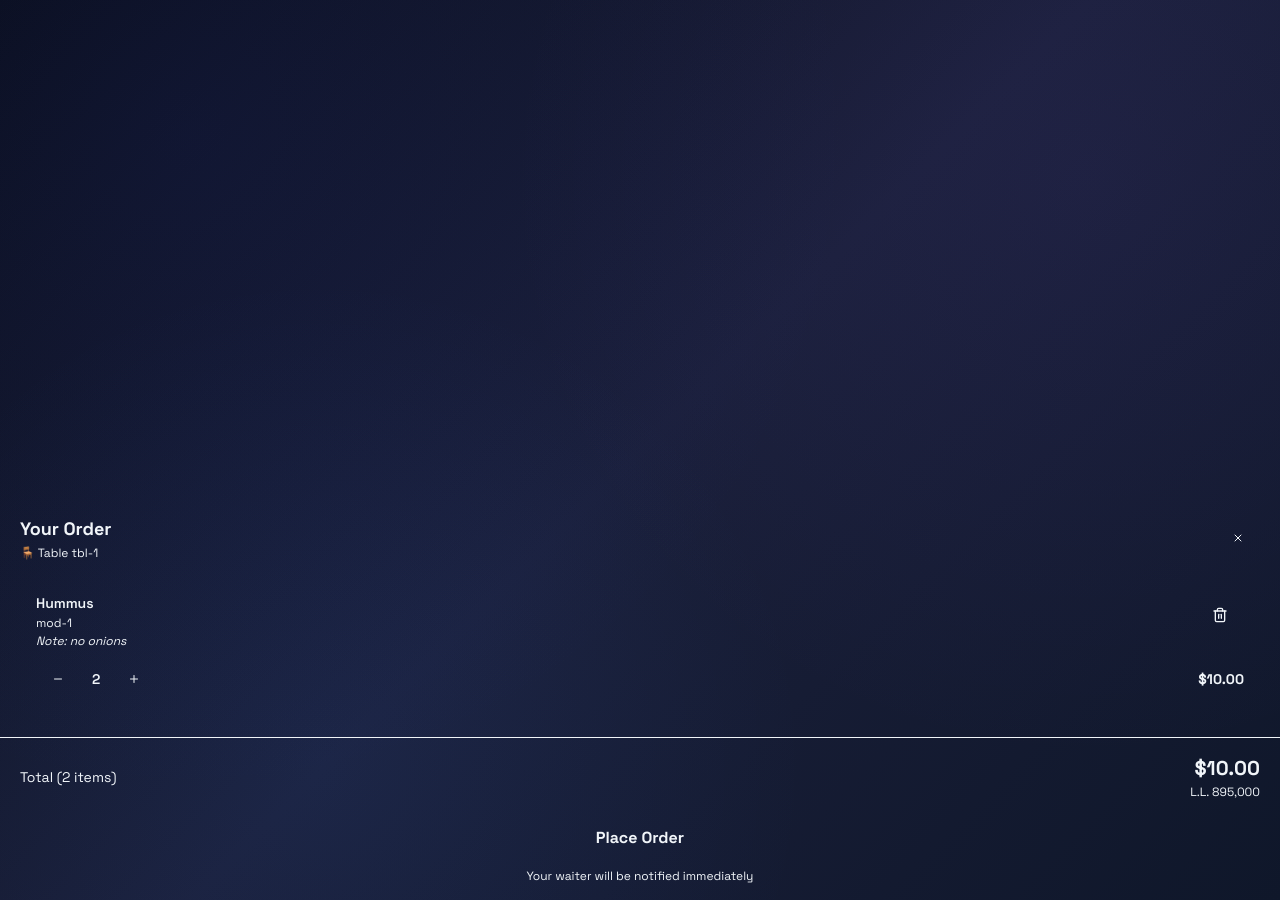
QRCart › shows a visible error message instead of failing silently
The width and height of the screenshot is (1280, 900).
Step 1. Click the button "Place Order" → click(640, 838), box [20, 816, 1260, 860]
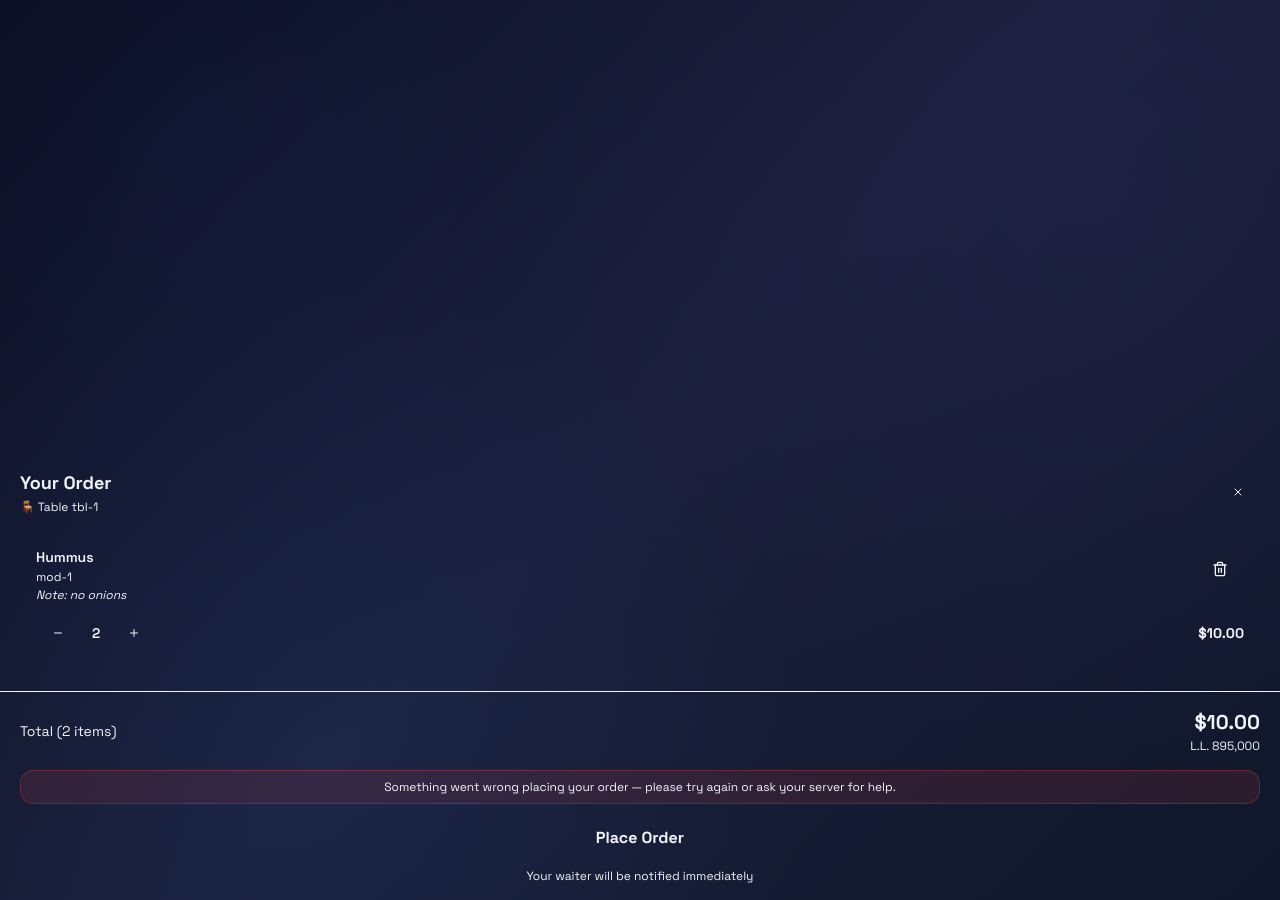
Expected: the text "Something went wrong" is shown, [384, 779, 896, 795]
